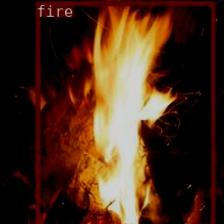fire: (34, 0, 214, 224)
